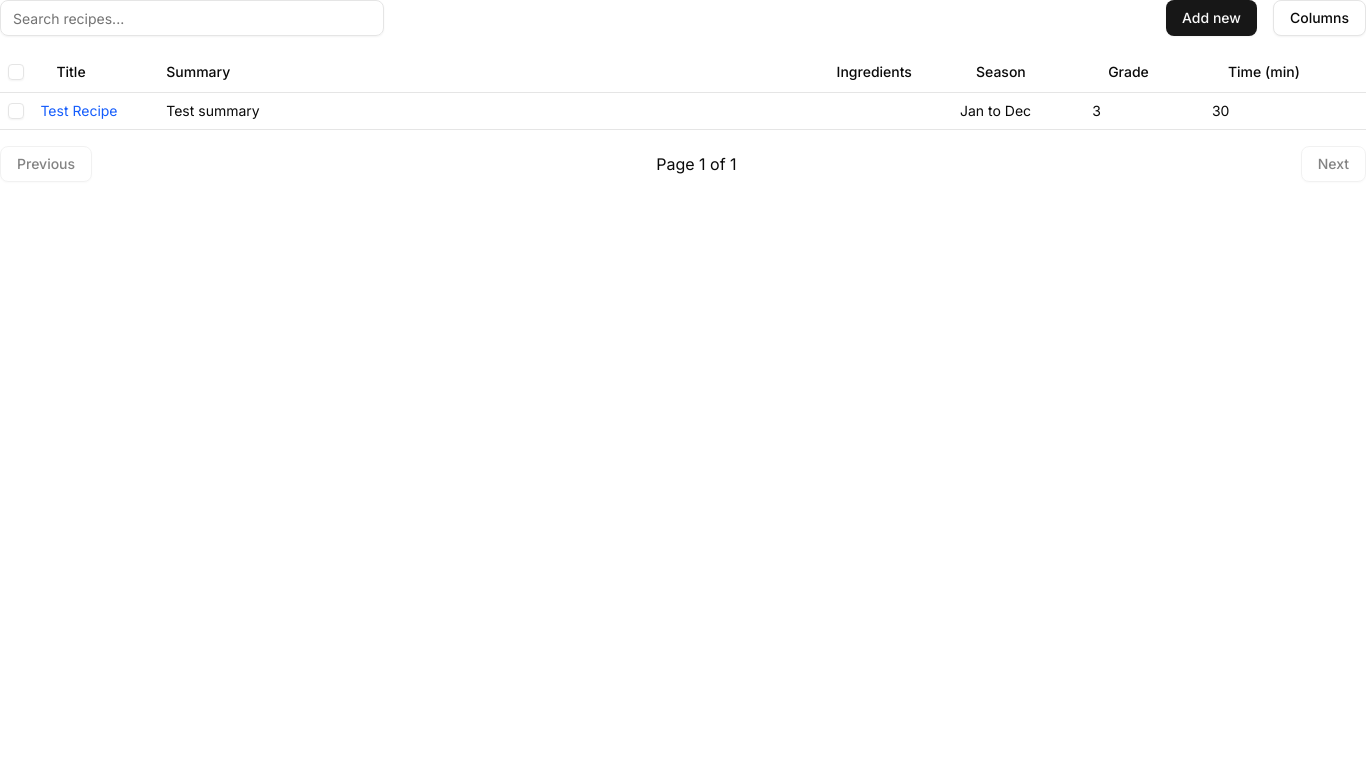
it: Recipe Save Functionality (Task 3.5) › Error Handling › handles API errors with specific error messages
Open sheet and enter edit mode
Click the button "Test Recipe": click(79, 110) [40, 100, 118, 120]
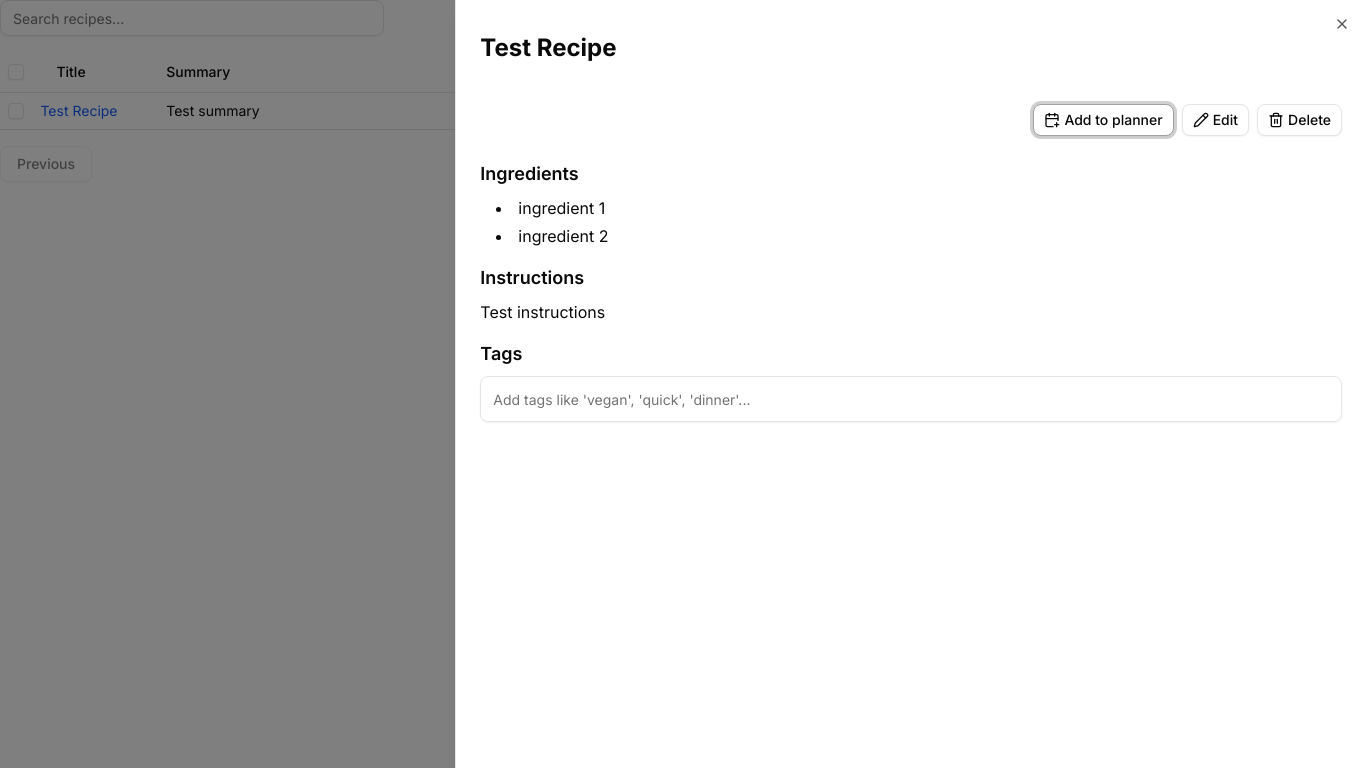
Click the button with aria-label "Edit Recipe": click(1215, 120) [1182, 104, 1249, 136]
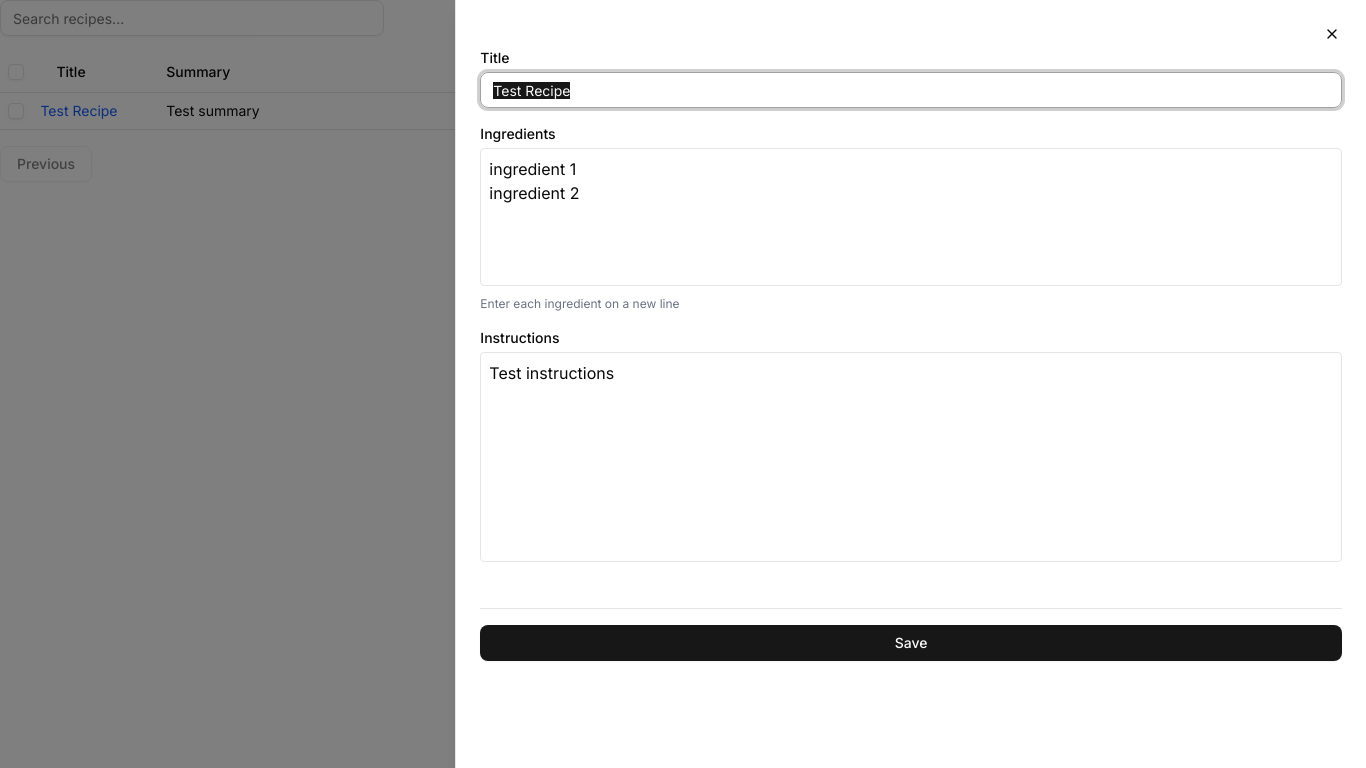
Save the changes
Click the button "Save": click(911, 643) [480, 625, 1342, 661]
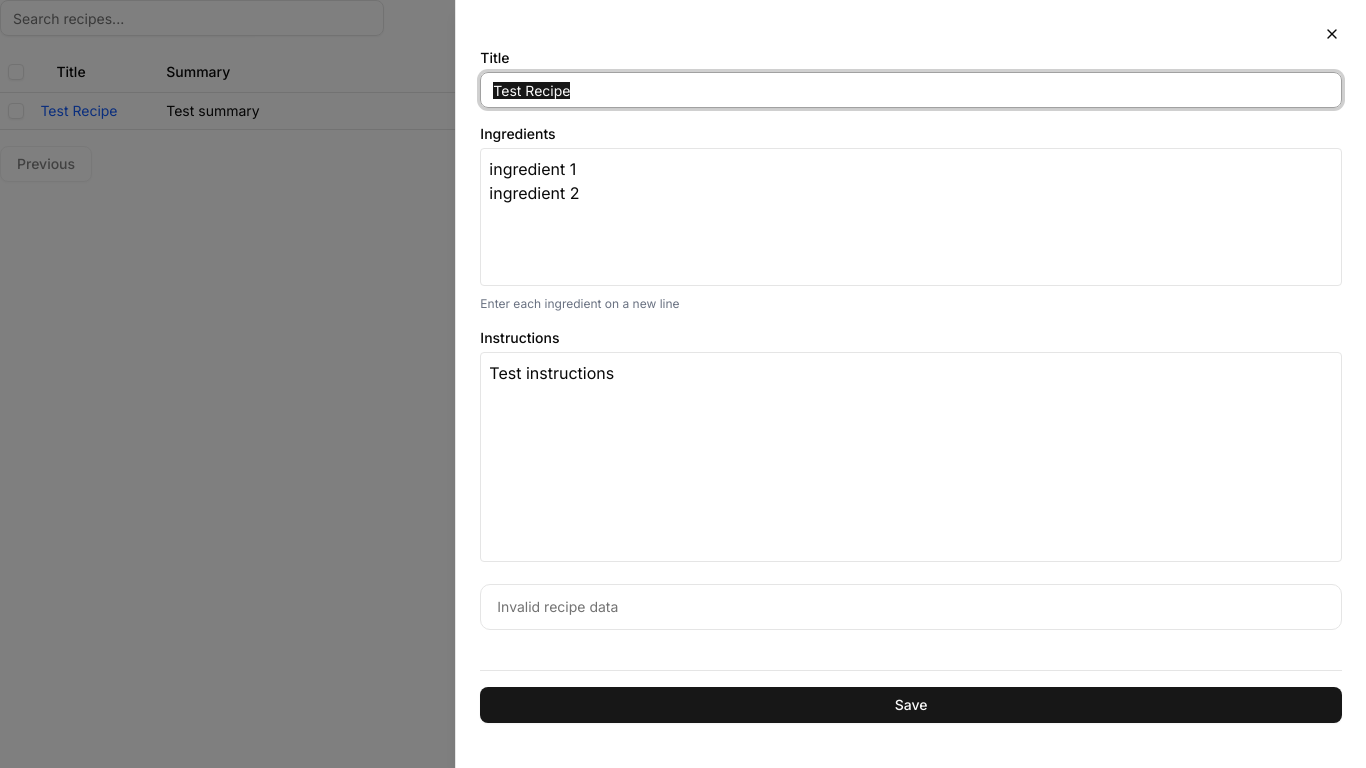
Check: the text "Invalid recipe data" is shown, box [497, 598, 618, 615]
